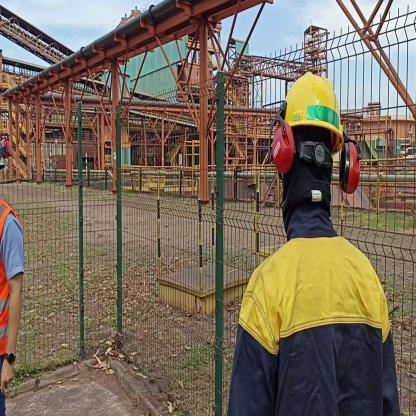Balaclava: (284, 132, 332, 222)
C_eletrica: (226, 232, 406, 416)
Capacete: (274, 66, 352, 146)
